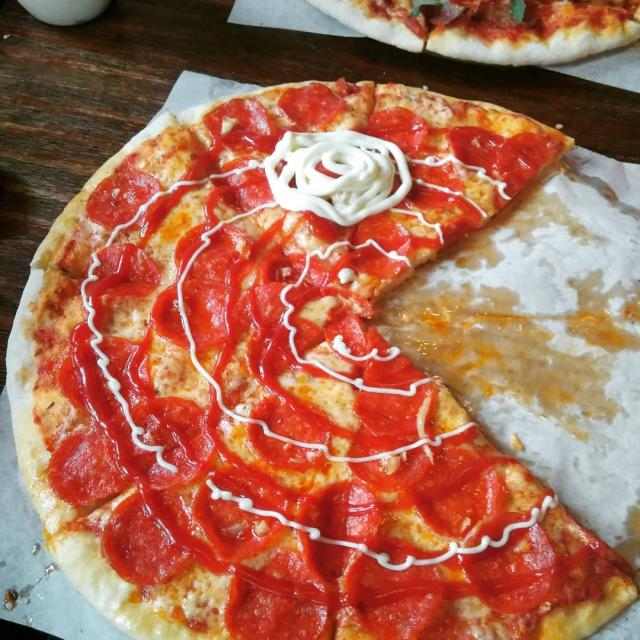pepperoni: (301, 488, 441, 640), (338, 330, 445, 490), (214, 546, 340, 637), (78, 483, 194, 581), (453, 511, 559, 618), (104, 384, 212, 489), (186, 459, 299, 559), (435, 106, 557, 196), (258, 249, 342, 371), (53, 321, 151, 412), (145, 267, 242, 356), (408, 452, 507, 536), (249, 384, 335, 475), (327, 214, 422, 282), (76, 240, 160, 312), (46, 428, 120, 503), (166, 216, 252, 277), (81, 166, 162, 229), (364, 100, 433, 158), (273, 80, 350, 130), (212, 101, 286, 149)
pizza: (11, 81, 636, 640)
